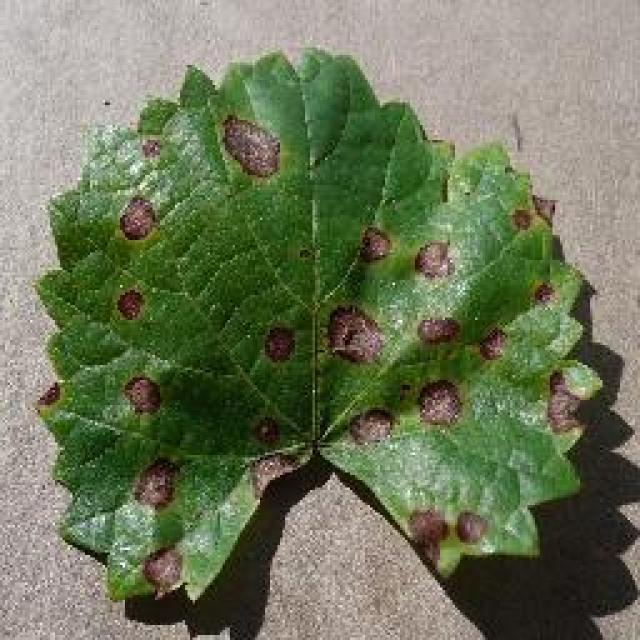Grape___Black_rot: (30, 41, 606, 608)
